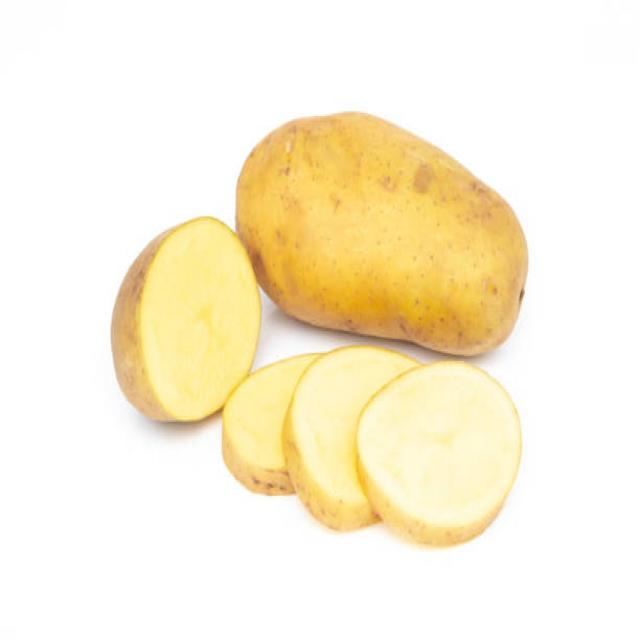potato: (248, 107, 533, 353), (288, 339, 523, 543), (110, 217, 247, 423)
